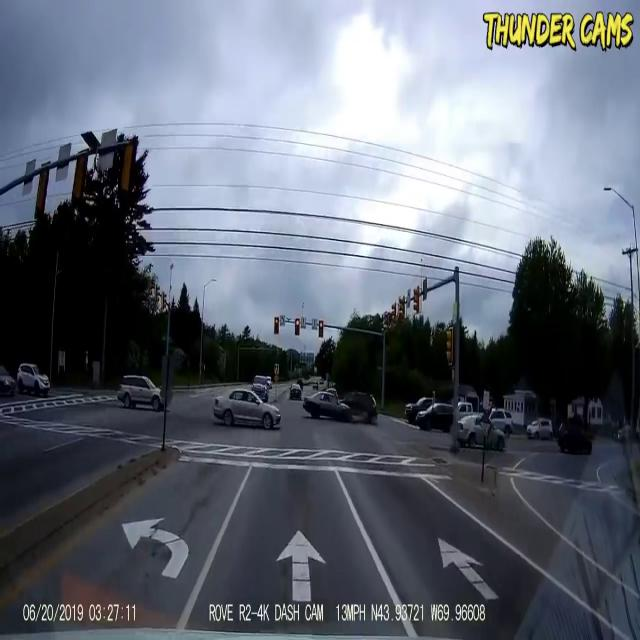accident: (304, 384, 385, 434)
